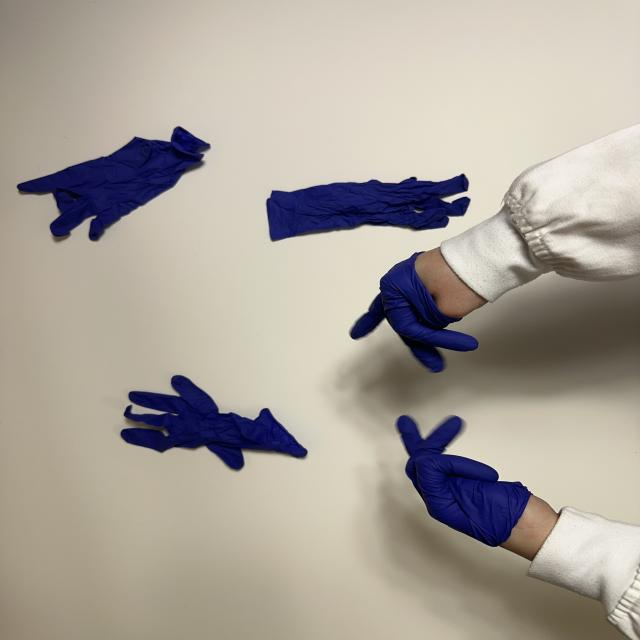glove_not_fitted: (391, 411, 563, 561), (347, 247, 494, 373)
